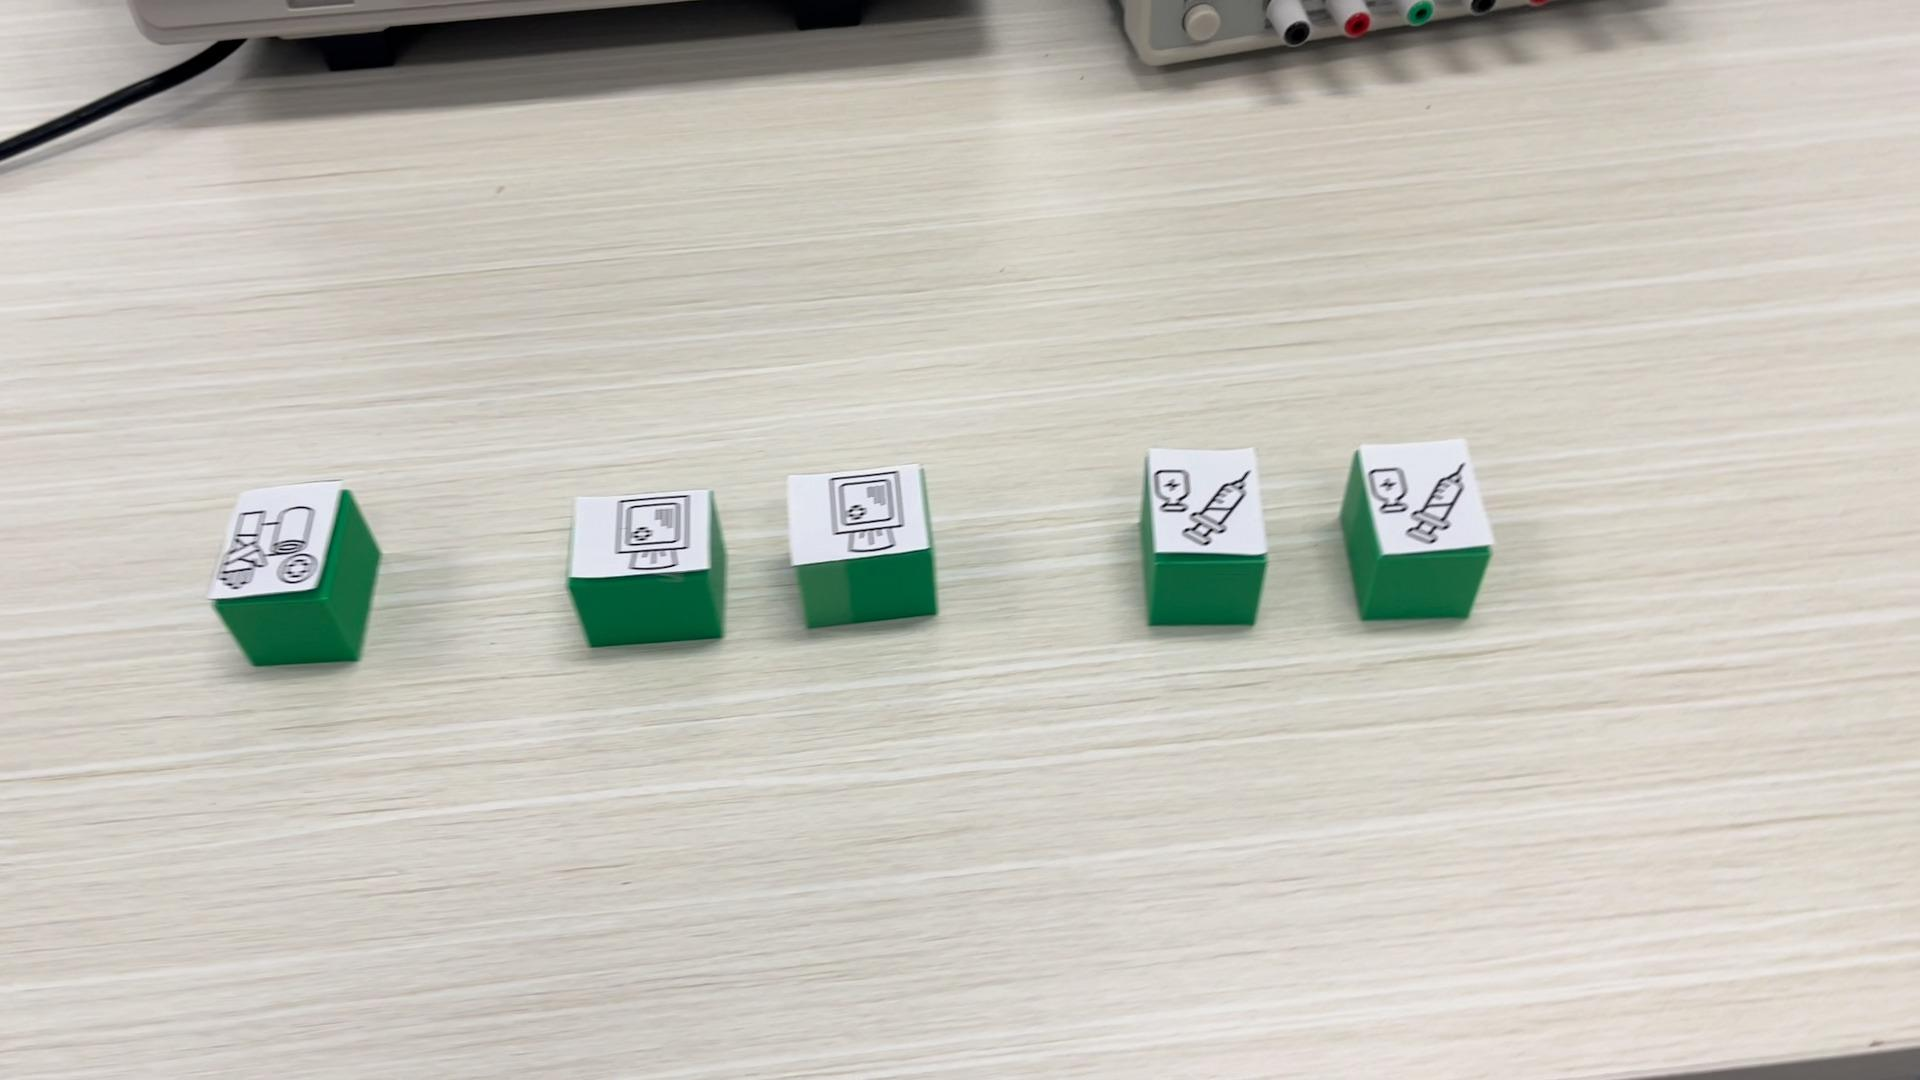Bandages: (208, 480, 380, 667)
Gauze: (566, 488, 727, 647), (785, 464, 939, 629)
antiseptic cream: (1338, 436, 1493, 621), (1137, 444, 1266, 625)
